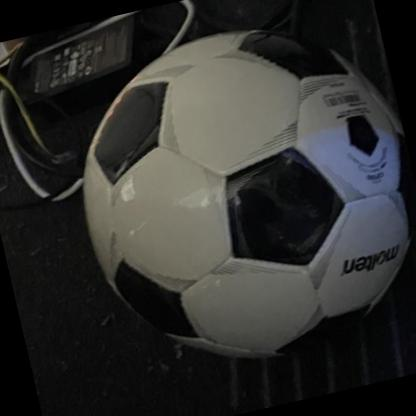ball: (50, 0, 416, 396)
